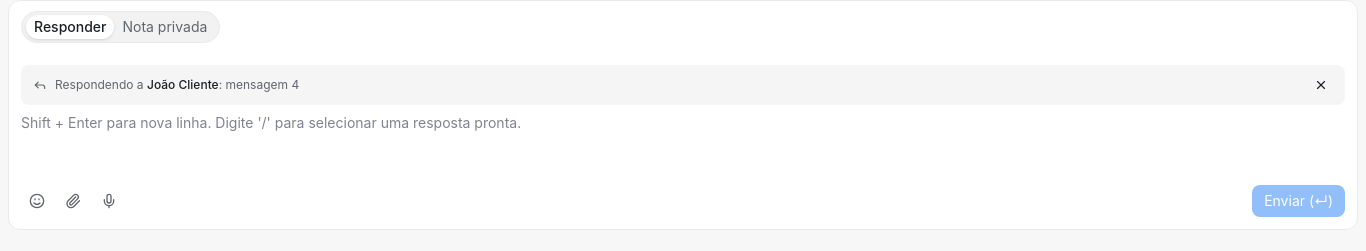
Test: voice notes › records an OGG/Opus voice note and sends it with voice=true
The image size is (1366, 251).
Step 1. Click the button named "Gravar áudio" → (109, 201), box [93,185,125,217]
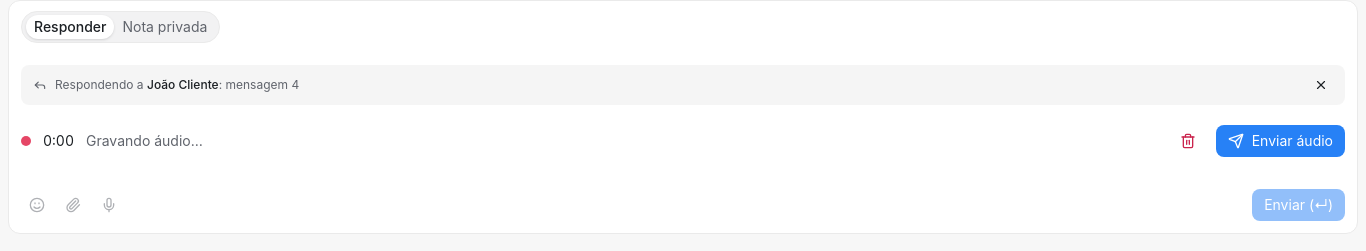
Check: the button "Enviar (↵)" is disabled, box [1252,189,1345,221]
Check: the element "Gravando áudio" is shown, box [21,125,1345,157]
Check: the text named "Tempo de gravação" reads "0:00", box [43,132,74,149]
Step 2. Click the button "Enviar áudio" → (1280, 141), box [1216,125,1345,157]
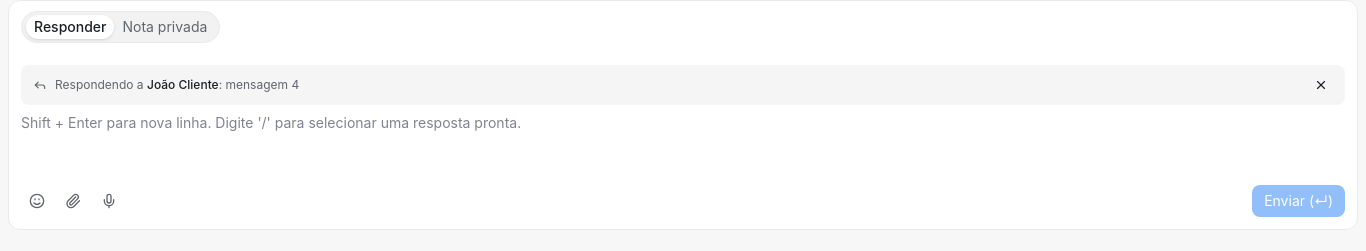
Check: the text "Gravando áudio" is gone
